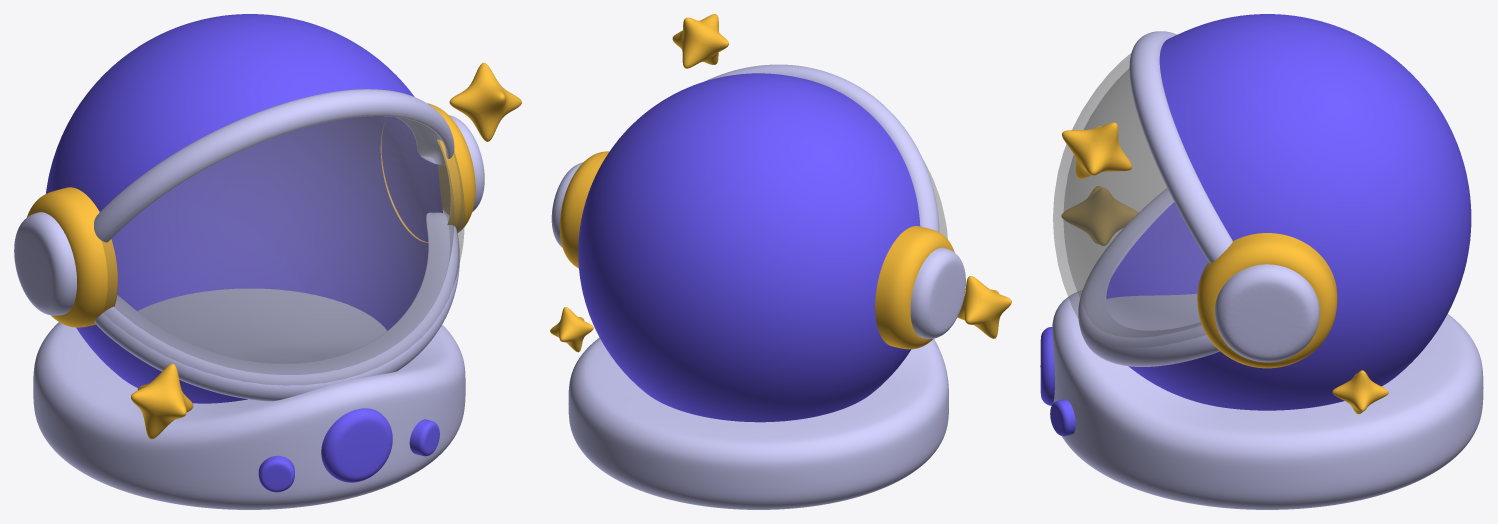
3 views of the same model, side by side, from view 1: azimuth 30°, elevation 25°; view 2: azimuth 150°, elevation 25°; view 3: azimuth 270°, elevation 25° (orthographic). The views are drawn at different scales.
Visible parts, largest first — view 1: Sphere, Sphere.003, Cylinder, Sphere.001, Cylinder.001, Cylinder.002, Cylinder.004, Cube.001, Cube.002, Cylinder.003; view 2: Sphere, Cylinder, Cylinder.001, Cylinder.002, Sphere.001, Cube.001, Cube.002, Cube.003; view 3: Sphere, Cylinder, Sphere.003, Sphere.001, Cylinder.002, Cylinder.001, Cube.001, Cube.002, Cube.003, Cylinder.004, Cylinder.003.
Part boxes in pixels (left/top/right/bottom): Sphere: left=46, top=14, right=442, bottom=403; Sphere.003: left=102, top=111, right=464, bottom=385; Cylinder: left=33, top=288, right=465, bottom=509; Sphere.001: left=94, top=89, right=459, bottom=401; Cylinder.001: left=27, top=103, right=475, bottom=327; Cylinder.002: left=14, top=115, right=484, bottom=315; Cylinder.004: left=321, top=408, right=392, bottom=482; Cube.001: left=449, top=63, right=521, bottom=141; Cube.002: left=131, top=364, right=193, bottom=439; Cylinder.003: left=258, top=419, right=439, bottom=492; Sphere: left=578, top=73, right=920, bottom=422; Cylinder: left=568, top=337, right=948, bottom=509; Cylinder.001: left=559, top=151, right=954, bottom=349; Cylinder.002: left=551, top=162, right=965, bottom=338; Sphere.001: left=705, top=64, right=939, bottom=231; Cube.001: left=672, top=14, right=728, bottom=68; Cube.002: left=957, top=276, right=1011, bottom=338; Cube.003: left=550, top=307, right=593, bottom=352; Sphere: left=1106, top=14, right=1471, bottom=410; Cylinder: left=1052, top=290, right=1483, bottom=509; Sphere.003: left=1053, top=53, right=1210, bottom=347; Sphere.001: left=1078, top=31, right=1232, bottom=366; Cylinder.002: left=1214, top=264, right=1319, bottom=362; Cylinder.001: left=1197, top=233, right=1337, bottom=368; Cube.001: left=1062, top=122, right=1132, bottom=178; Cube.002: left=1061, top=186, right=1138, bottom=245; Cube.003: left=1332, top=370, right=1388, bottom=414; Cylinder.004: left=1040, top=327, right=1054, bottom=405; Cylinder.003: left=1050, top=399, right=1075, bottom=436.
Size of the model in its own units: 3.98 by 3.5 by 3.55.
